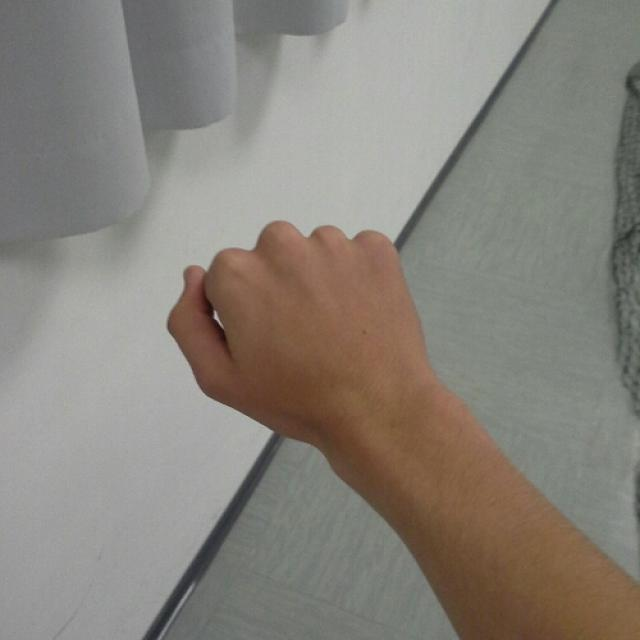rock: (170, 216, 438, 449)
